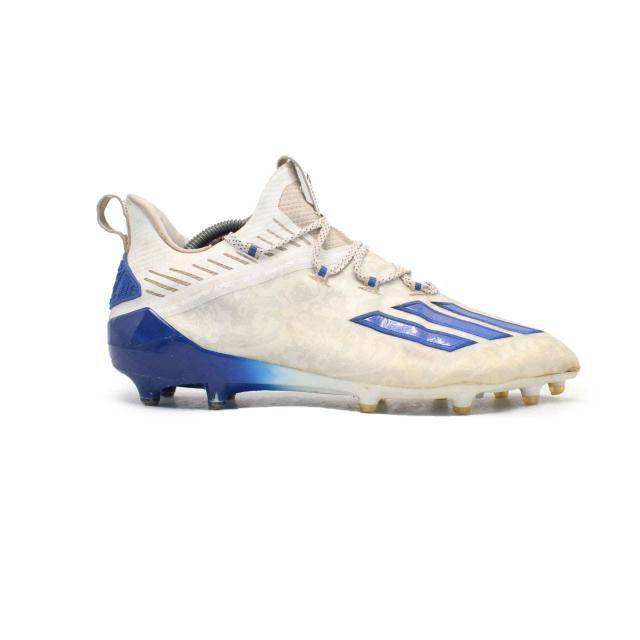heel: (99, 195, 169, 352)
midsole: (108, 339, 576, 419)
uppersole: (145, 159, 576, 383)
